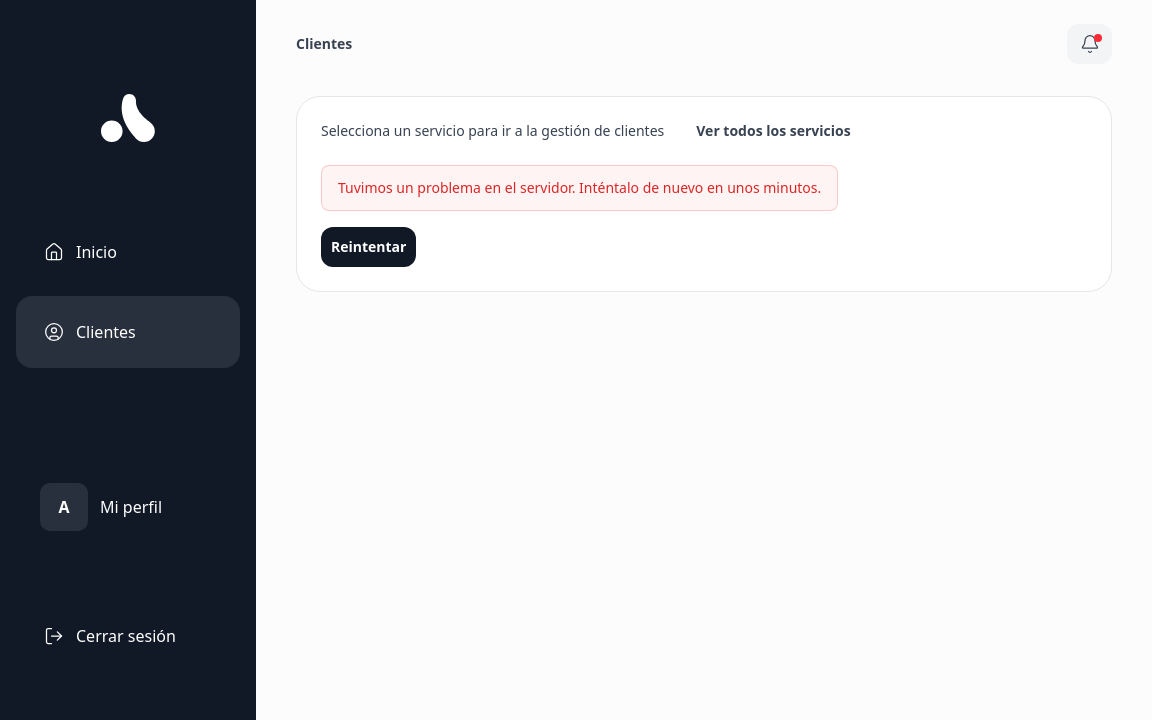
Scenario: ClientsPage › errores al cargar › "Reintentar" vuelve a pedir los servicios y muestra las tarjetas cuando ya responde
The width and height of the screenshot is (1152, 720).
Expected: the heading "Clientes" is shown, [296,34,352,54]
Expected: the message "Tuvimos un problema en el servidor. Inténtalo de nuevo en unos minutos." is shown, [321,165,838,211]
Click the button "Reintentar": (369, 247) [321,227,416,267]
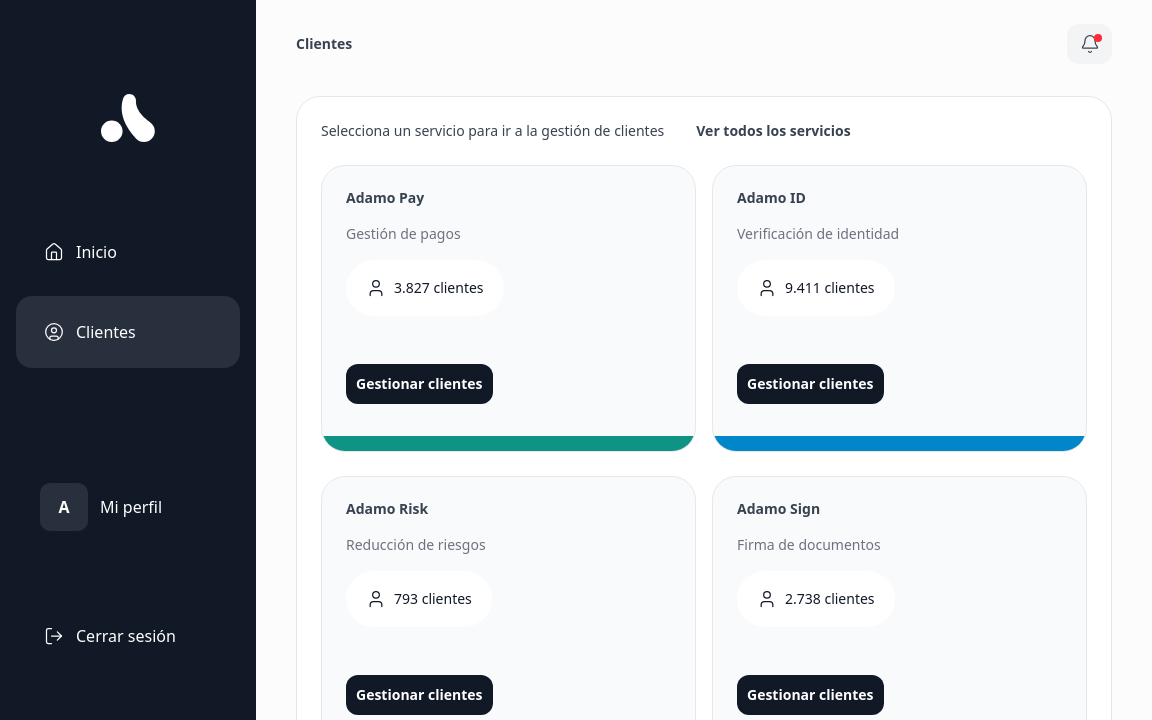
Expected: the message "Tuvimos un problema en el servidor. Inténtalo de nuevo en unos minutos." is gone
